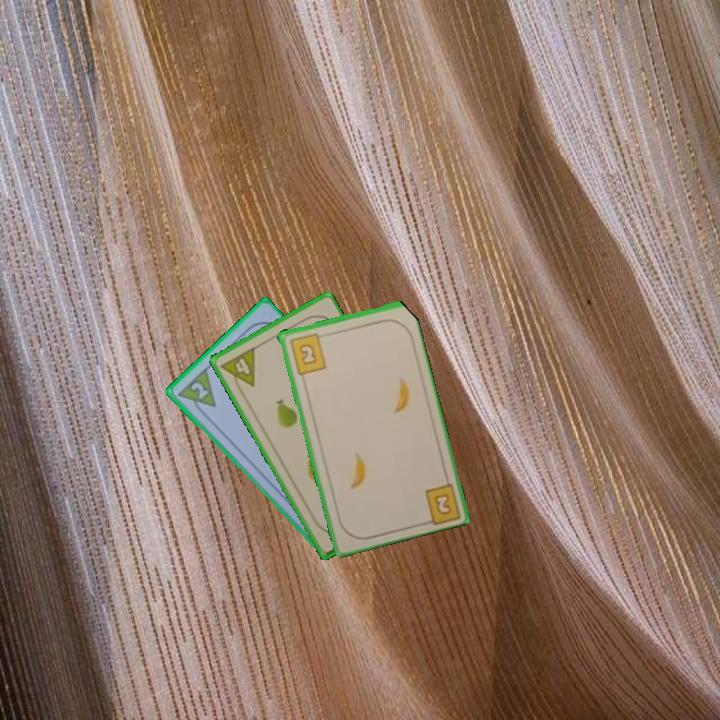2b: (286, 329, 329, 377), (430, 490, 454, 518)
2p: (173, 364, 219, 419)
4p: (217, 343, 258, 396)
